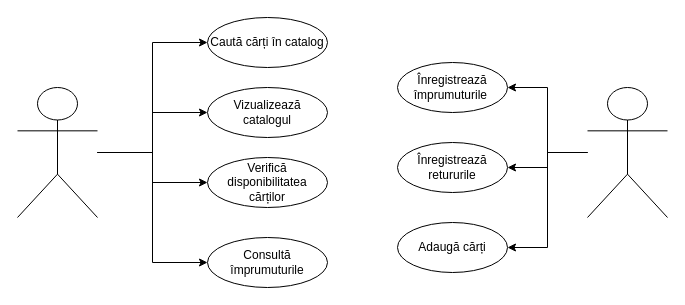
The diagram is 685 pixels wide and 305 high, and some of its shapes have lost their labels. Each missing label, with the centre of its shape:
Bibliotecar: pixel 627 152
Cititor: pixel 57 152
